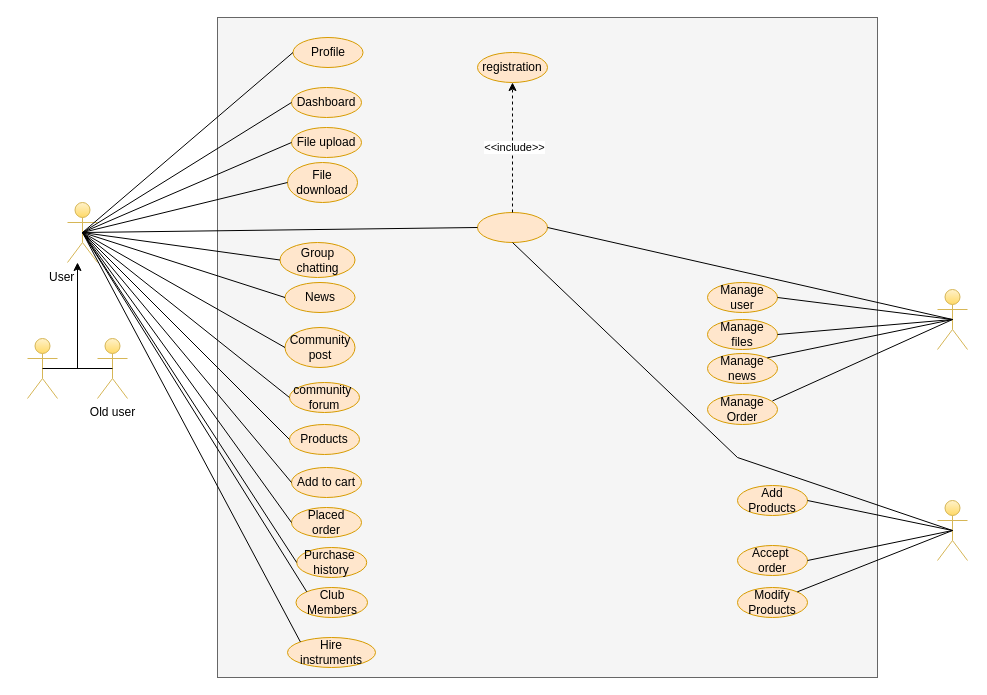
Image size: 987x695. Some labels were removed from this diagram. Each missing label, with the box of its shape:
Admin: (936, 288, 968, 350)
login: (476, 212, 548, 242)
New user: (26, 338, 58, 398)
Seller: (936, 500, 968, 560)
